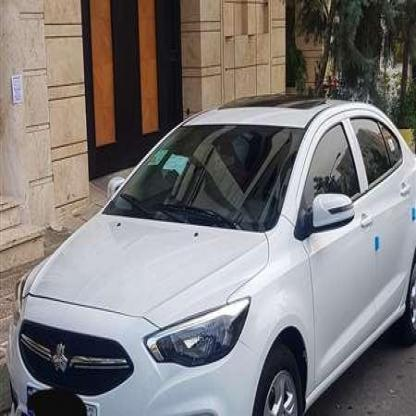Car: (0, 98, 416, 416)
